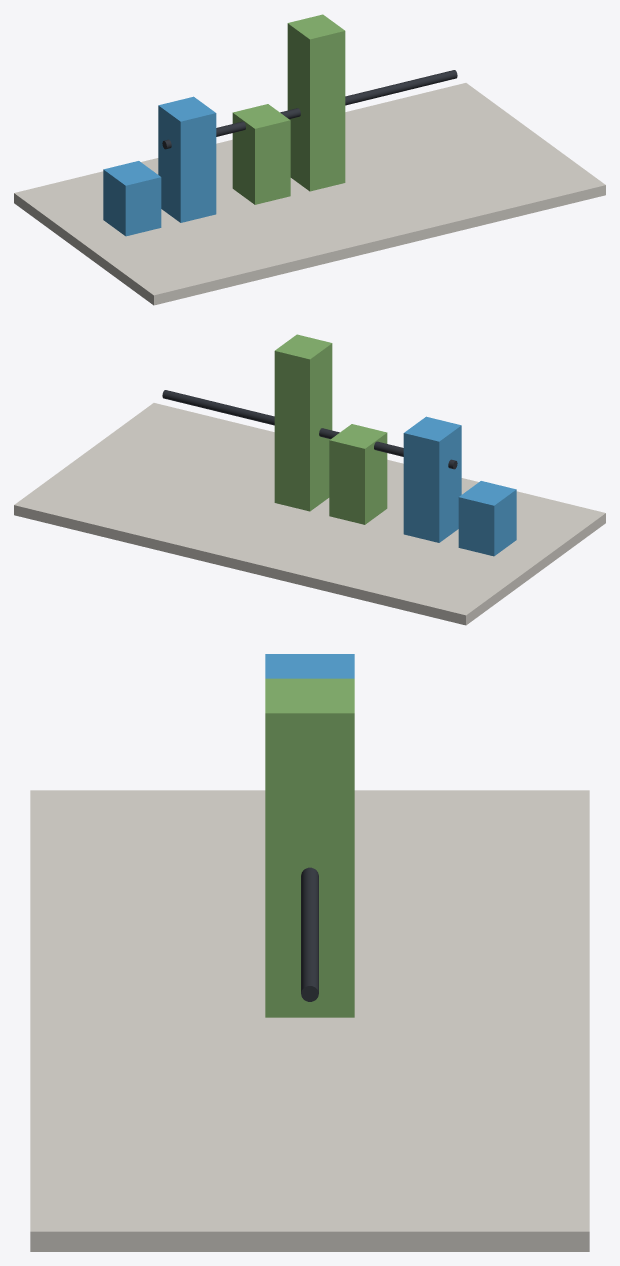
The model's file is math-fractions-proportion.glb.
3 renders of one model, top to bottom at view 1: azimuth 30°, elevation 25°; view 2: azimuth 150°, elevation 25°; view 3: azimuth 270°, elevation 25°, orthographic. The views are drawn at different scales.
Parts seen in each view (by area): view 1: manipulative-base, bar-2 (×2), bar-1 (×2), proportion-balance-beam; view 2: manipulative-base, bar-2 (×2), bar-1 (×2), proportion-balance-beam; view 3: manipulative-base, bar-2 (×2), proportion-balance-beam.
Part boxes in pixels (x1,y1,x2,y2): manipulative-base: (14, 83, 605, 305); bar-2 (×2): (158, 14, 345, 222); bar-1 (×2): (103, 104, 290, 236); proportion-balance-beam: (162, 70, 457, 149); manipulative-base: (14, 403, 605, 625); bar-2 (×2): (274, 334, 461, 542); bar-1 (×2): (329, 424, 516, 556); proportion-balance-beam: (162, 390, 457, 469); manipulative-base: (30, 790, 589, 1251); bar-2 (×2): (265, 654, 354, 1017); proportion-balance-beam: (301, 867, 318, 1001).
Size of what is drawn, in the model's own units: 2.8 by 1.01 by 1.5.
